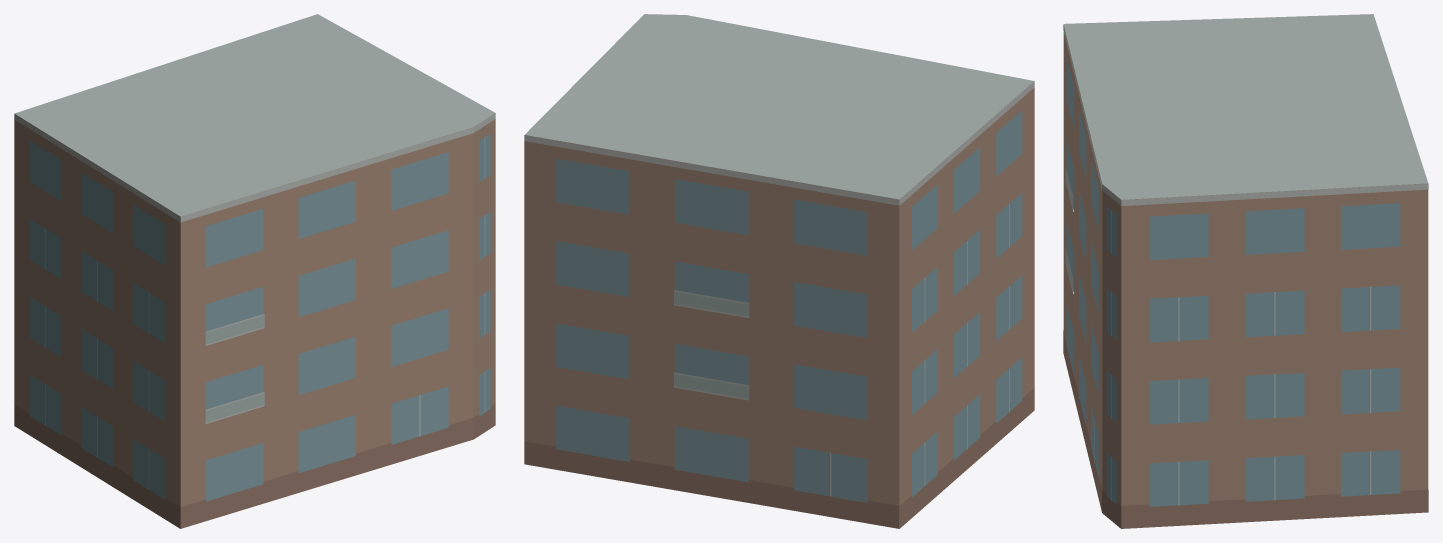
The model's file is survey-upis-32806146.glb.
3 renders of one model, left to right at view 1: azimuth 30°, elevation 25°; view 2: azimuth 150°, elevation 25°; view 3: azimuth 270°, elevation 25°, orthographic. The views are drawn at different scales.
Visible parts, largest first — view 1: survey-upis-32806146.tmp; view 2: survey-upis-32806146.tmp; view 3: survey-upis-32806146.tmp.
Part boxes in pixels (left/top/right/bottom): survey-upis-32806146.tmp: left=14, top=14, right=495, bottom=528; survey-upis-32806146.tmp: left=524, top=14, right=1034, bottom=528; survey-upis-32806146.tmp: left=1063, top=14, right=1428, bottom=528.
Bounding box in the file's own units: 15.52 × 12.8 × 12.88.
